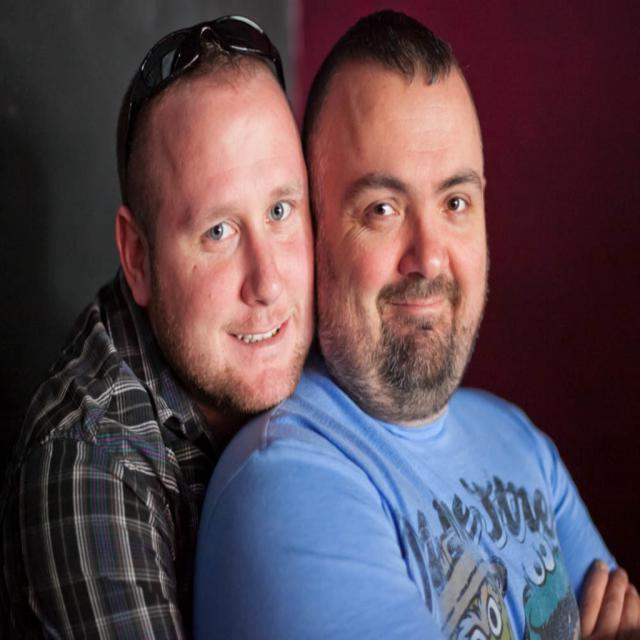closed-mouth: (385, 298, 447, 315)
